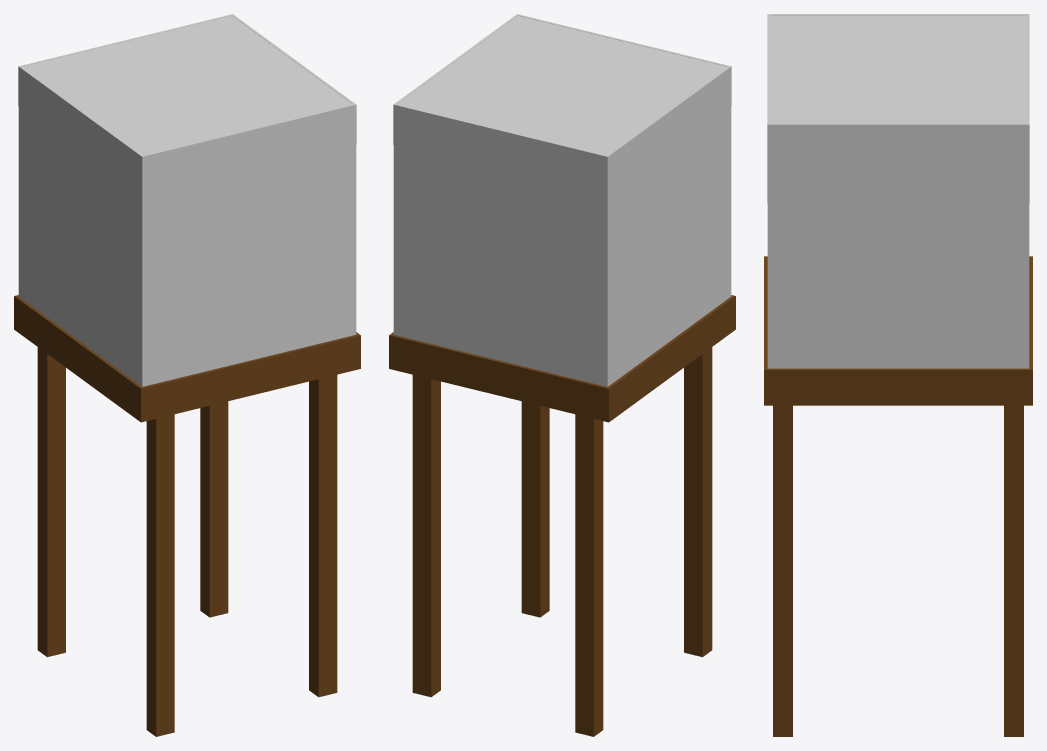
File: Artifact Stand.fbx
3 renders of one model, left to right at view 1: azimuth 30°, elevation 25°; view 2: azimuth 150°, elevation 25°; view 3: azimuth 270°, elevation 25°, orthographic. The views are drawn at different scales.
Parts seen in each view (by area): view 1: Stand; view 2: Stand; view 3: Stand.
Part boxes in pixels (x1,y1,x2,y2): Stand: [14, 14, 360, 736]; Stand: [389, 14, 735, 736]; Stand: [764, 14, 1032, 736].
Bounding box in the file's own units: 137 × 350 × 137.
